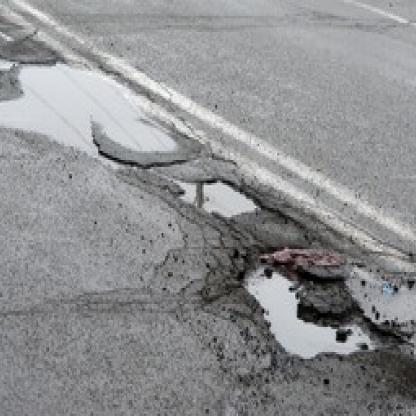pothole: (235, 240, 399, 361), (168, 172, 263, 220)
